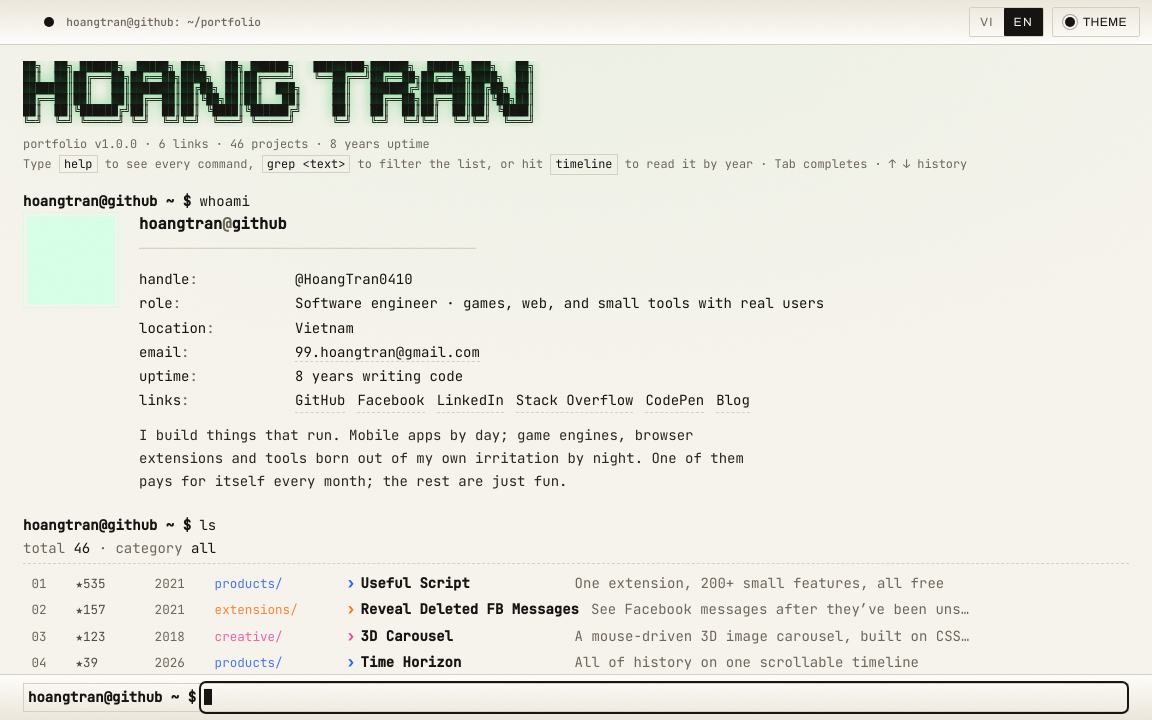
Test case: Terminal › gõ `ls games` thì in ra đúng các dự án nhóm games
In the field named "Command line": (664, 697) x1=204 y1=686 x2=1124 y2=709, type "ls games"
Then press Enter
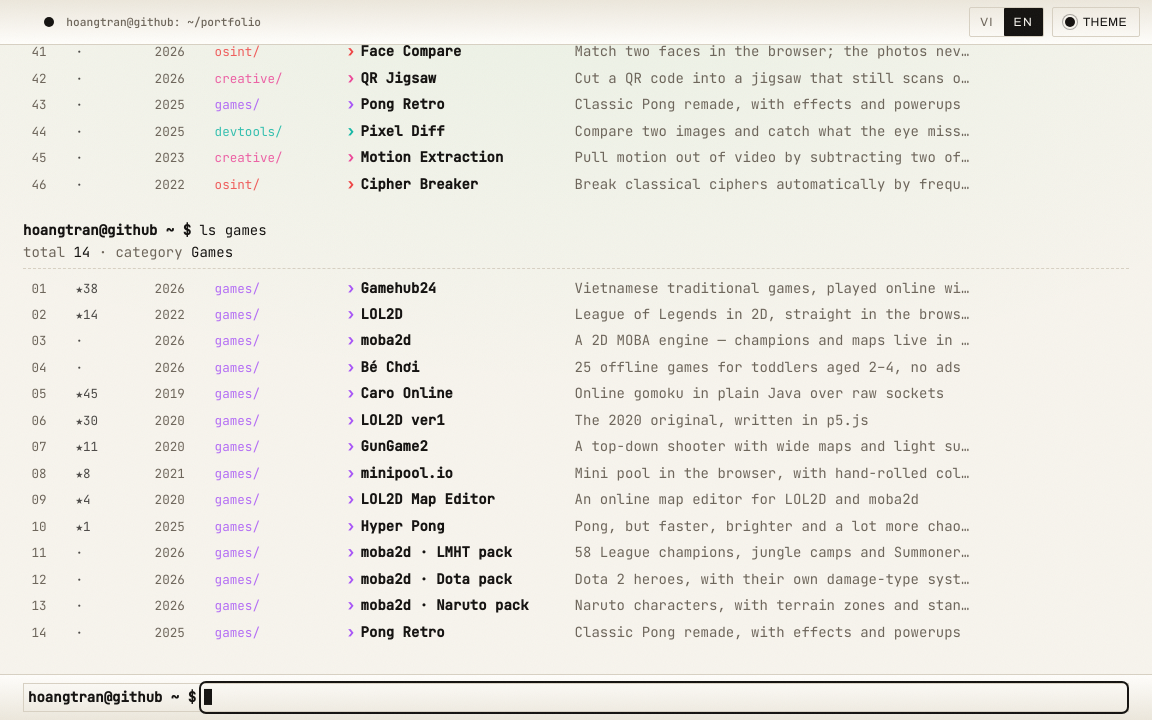
expect the element that starts with "games" is shown: met, box x1=23 y1=275 x2=1129 y2=301
